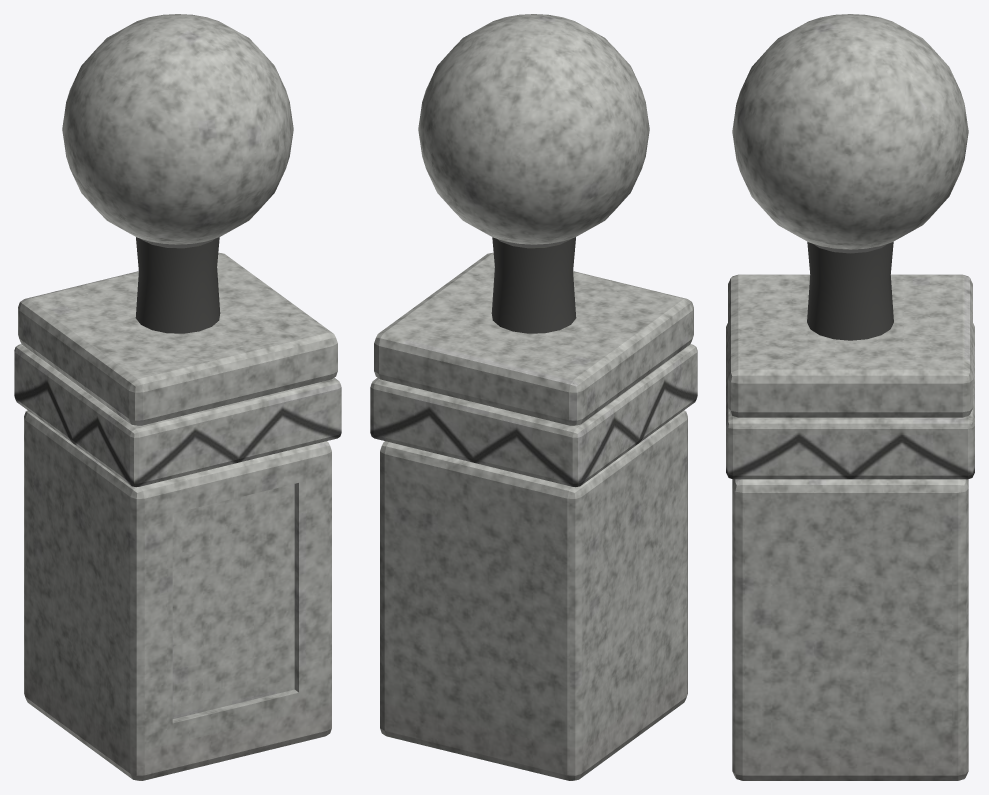
File: post_square_e_hd.glb
3 renders of one model, left to right at view 1: azimuth 30°, elevation 25°; view 2: azimuth 150°, elevation 25°; view 3: azimuth 270°, elevation 25°, orthographic. The views are drawn at different scales.
Visible parts, largest first — view 1: post_square_e; view 2: post_square_e; view 3: post_square_e.
Part boxes in pixels (bbox=[...]): post_square_e: bbox=[14, 14, 341, 780]; post_square_e: bbox=[370, 14, 697, 780]; post_square_e: bbox=[726, 14, 974, 780].
Bounding box in the file's own units: 0.284 × 0.895 × 0.284.
1 material, 1 textured.
